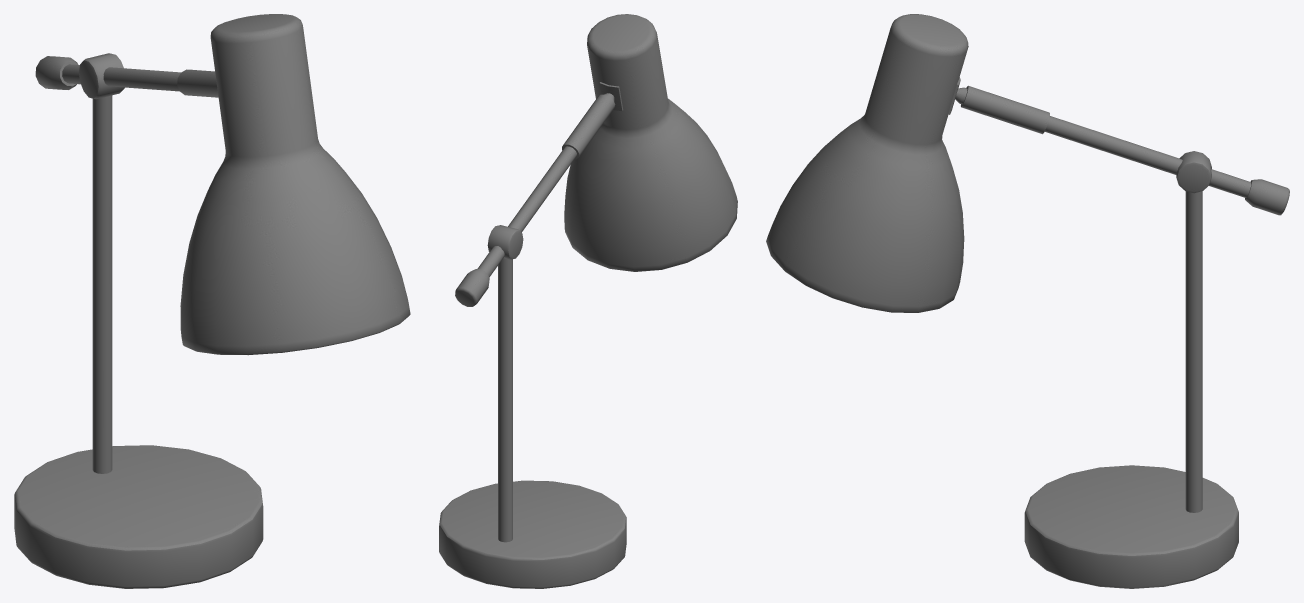
File: DeskLamp.fbx
The picture shows the model from 3 angles, left to right: view 1: azimuth 30°, elevation 25°; view 2: azimuth 150°, elevation 25°; view 3: azimuth 270°, elevation 25°; orthographic projection. The views are drawn at different scales.
Visible parts, largest first — view 1: DeskLamp_13in_CN001_1; view 2: DeskLamp_13in_CN001_1; view 3: DeskLamp_13in_CN001_1.
Boxes of the visible parts, bbox=[...] form: DeskLamp_13in_CN001_1: bbox=[14, 14, 410, 588]; DeskLamp_13in_CN001_1: bbox=[439, 14, 737, 588]; DeskLamp_13in_CN001_1: bbox=[766, 14, 1289, 588].
Bounding box in the file's own units: 13.05 × 35.07 × 31.91.
Materials: 1 (1 with a texture image).
